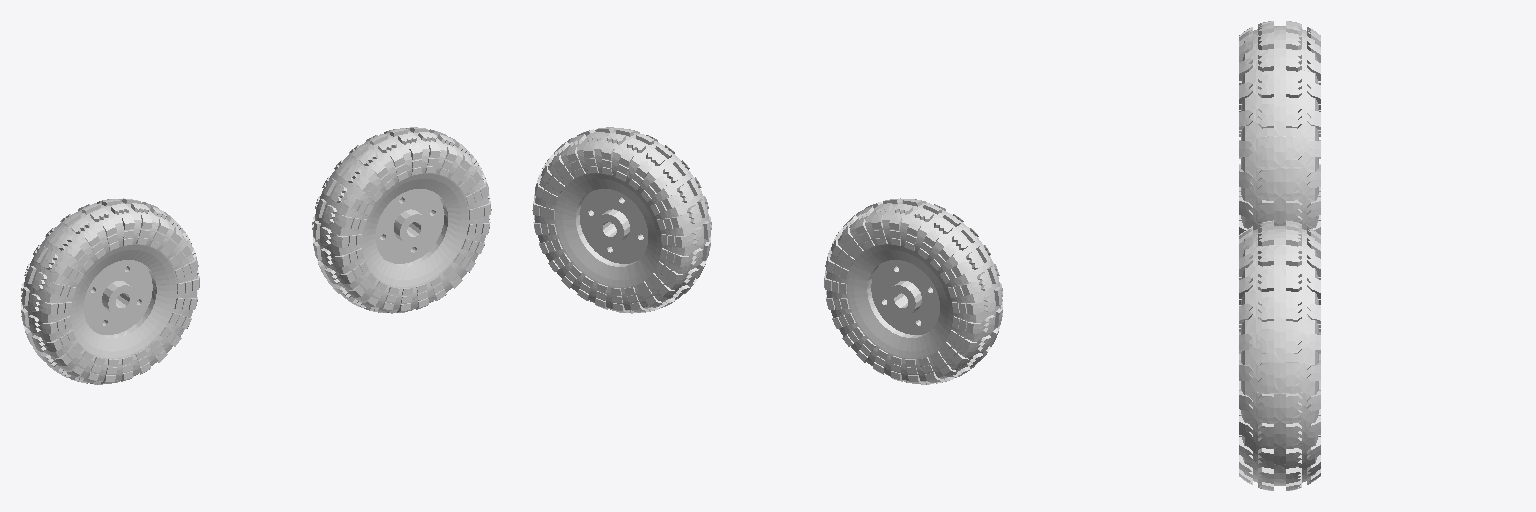
robot.urdf — pip:
<?xml version="1.0" encoding="utf-8"?>
<!-- This URDF was automatically created by SolidWorks to URDF Exporter! Originally created by [author] ([email redacted]) 
     Commit Version: 1.6.0-4-g7f85cfe  Build Version: 1.6.7995.38578
     For more information, please see http://wiki.ros.org/sw_urdf_exporter -->
<robot
  name="pip">
  <link
    name="base_link">
    <inertial>
      <origin
        xyz="-8.1243457881439E-18 4.57903182795049E-17 0.03"
        rpy="0 0 0" />
      <mass
        value="23.8752202305694" />
      <inertia
        ixx="0.449048689155945"
        ixy="-2.35758916904458E-18"
        ixz="-1.57164907896417E-18"
        iyy="1.32622550789332"
        iyz="-3.45471987244402E-18"
        izz="1.76100090118971" />
    </inertial>
    <visual>
      <origin
        xyz="0 0 0"
        rpy="0 0 0" />
      <geometry>
        <mesh
          filename="package://pip/meshes/base_link.STL" />
      </geometry>
      <material
        name="">
        <color
          rgba="0.792156862745098 0.819607843137255 0.933333333333333 1" />
      </material>
    </visual>
    <collision>
      <origin
        xyz="0 0 0"
        rpy="0 0 0" />
      <geometry>
        <mesh
          filename="package://pip/meshes/base_link.STL" />
      </geometry>
    </collision>
  </link>
  <link
    name="front_left_wheel">
    <inertial>
      <origin
        xyz="0.2 0.295 0.03"
        rpy="0 0 0" />
      <mass
        value="2.1167" />
      <inertia
        ixx="0.0076561"
        ixy="-2.912E-15"
        ixz="-5.7644E-14"
        iyy="0.014045"
        iyz="1.412E-16"
        izz="0.0076561" />
    </inertial>
    <visual>
      <origin
        xyz="0 0 0"
        rpy="0 0 0" />
      <geometry>
        <mesh
          filename="package://pip/meshes/front_left_wheel.STL" />
      </geometry>
      <material
        name="">
        <color
          rgba="0.89804 0.89804 0.89804 1" />
      </material>
    </visual>
    <collision>
      <origin
        xyz="0 0 0"
        rpy="0 0 0" />
      <geometry>
        <mesh
          filename="package://pip/meshes/front_left_wheel.STL" />
      </geometry>
    </collision>
  </link>
  <joint
    name="front_left_joint"
    type="continuous">
    <origin
      xyz="0 0 0"
      rpy="0 0 0" />
    <parent
      link="base_link" />
    <child
      link="front_left_wheel" />
    <axis
      xyz="0 1 0" />
    <limit
      lower="0"
      upper="0"
      effort="1000"
      velocity="1000" />
    <dynamics
      damping="1"
      friction="1" />
  </joint>
  <link
    name="front_right_wheel">
    <inertial>
      <origin
        xyz="0.2 -0.295 0.03"
        rpy="0 0 0" />
      <mass
        value="2.1167" />
      <inertia
        ixx="0.0076561"
        ixy="1.9442E-16"
        ixz="-7.0137E-14"
        iyy="0.014045"
        iyz="-2.722E-15"
        izz="0.0076561" />
    </inertial>
    <visual>
      <origin
        xyz="0 0 0"
        rpy="0 0 0" />
      <geometry>
        <mesh
          filename="package://pip/meshes/front_right_wheel.STL" />
      </geometry>
      <material
        name="">
        <color
          rgba="0.89804 0.89804 0.89804 1" />
      </material>
    </visual>
    <collision>
      <origin
        xyz="0 0 0"
        rpy="0 0 0" />
      <geometry>
        <mesh
          filename="package://pip/meshes/front_right_wheel.STL" />
      </geometry>
    </collision>
  </link>
  <joint
    name="front_right_joint"
    type="continuous">
    <origin
      xyz="0 0 0"
      rpy="0 0 0" />
    <parent
      link="base_link" />
    <child
      link="front_right_wheel" />
    <axis
      xyz="0 -1 0" />
    <limit
      lower="0"
      upper="0"
      effort="1000"
      velocity="1000" />
    <dynamics
      damping="1"
      friction="1" />
  </joint>
  <link
    name="rear_left_wheel">
    <inertial>
      <origin
        xyz="-0.2 0.295 0.03"
        rpy="0 0 0" />
      <mass
        value="2.1167" />
      <inertia
        ixx="0.0076561"
        ixy="9.1094E-16"
        ixz="-6.7679E-14"
        iyy="0.014045"
        iyz="-2.1313E-15"
        izz="0.0076561" />
    </inertial>
    <visual>
      <origin
        xyz="0 0 0"
        rpy="0 0 0" />
      <geometry>
        <mesh
          filename="package://pip/meshes/rear_left_wheel.STL" />
      </geometry>
      <material
        name="">
        <color
          rgba="0.89804 0.89804 0.89804 1" />
      </material>
    </visual>
    <collision>
      <origin
        xyz="0 0 0"
        rpy="0 0 0" />
      <geometry>
        <mesh
          filename="package://pip/meshes/rear_left_wheel.STL" />
      </geometry>
    </collision>
  </link>
  <joint
    name="rear_left_joint"
    type="continuous">
    <origin
      xyz="0 0 0"
      rpy="0 0 0" />
    <parent
      link="base_link" />
    <child
      link="rear_left_wheel" />
    <axis
      xyz="0 1 0" />
    <limit
      lower="0"
      upper="0"
      effort="1000"
      velocity="1000" />
    <dynamics
      damping="1"
      friction="1" />
  </joint>
  <link
    name="rear_right_wheel">
    <inertial>
      <origin
        xyz="-0.2 -0.295 0.03"
        rpy="0 0 0" />
      <mass
        value="2.1167" />
      <inertia
        ixx="0.0076561"
        ixy="1.1546E-15"
        ixz="1.1842E-13"
        iyy="0.014045"
        iyz="1.7065E-15"
        izz="0.0076561" />
    </inertial>
    <visual>
      <origin
        xyz="0 0 0"
        rpy="0 0 0" />
      <geometry>
        <mesh
          filename="package://pip/meshes/rear_right_wheel.STL" />
      </geometry>
      <material
        name="">
        <color
          rgba="0.89804 0.89804 0.89804 1" />
      </material>
    </visual>
    <collision>
      <origin
        xyz="0 0 0"
        rpy="0 0 0" />
      <geometry>
        <mesh
          filename="package://pip/meshes/rear_right_wheel.STL" />
      </geometry>
    </collision>
  </link>
  <joint
    name="rear_right_joint"
    type="continuous">
    <origin
      xyz="0 0 0"
      rpy="0 0 0" />
    <parent
      link="base_link" />
    <child
      link="rear_right_wheel" />
    <axis
      xyz="0 -1 0" />
    <limit
      lower="0"
      upper="0"
      effort="1000"
      velocity="1000" />
    <dynamics
      damping="1"
      friction="1" />
  </joint>
</robot>

--- What the picture shows (computed from the rendered views, not written in the file) ---
The picture shows the robot from 3 angles, left to right: view 1: azimuth 30°, elevation 25°; view 2: azimuth 150°, elevation 25°; view 3: azimuth 270°, elevation 25°; orthographic projection.
Model pip with 5 links and 4 joints (4 continuous), rooted at base_link, posed every joint at zero.
Links seen in each view (by area): view 1: front_right_wheel, rear_right_wheel; view 2: rear_right_wheel, front_right_wheel; view 3: front_right_wheel, rear_right_wheel.
Link boxes in pixels (x1=…): front_right_wheel: x1=312, y1=127, x2=491, y2=313; rear_right_wheel: x1=21, y1=198, x2=199, y2=384; rear_right_wheel: x1=824, y1=198, x2=1002, y2=384; front_right_wheel: x1=532, y1=127, x2=711, y2=313; front_right_wheel: x1=1239, y1=220, x2=1320, y2=490; rear_right_wheel: x1=1239, y1=21, x2=1320, y2=234.
Size in the robot's own frame: 0.6294 by 0.069 by 0.2295 metres.
Meshes: 5 distinct files referenced, 2 mesh visuals loaded (2 binary STL); not drawn: 3 (reference not matched to a file when rendering).